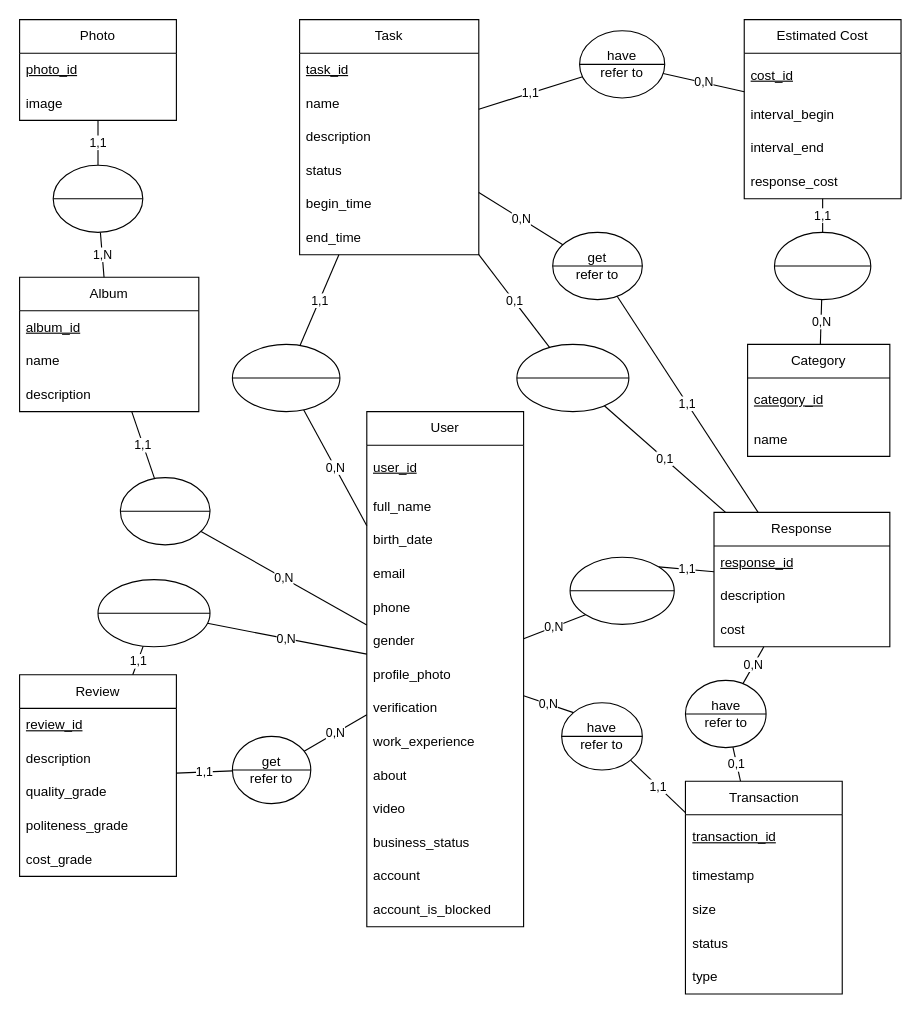
Some shapes in this 921 by 1014 pixel diagram are drawn without their labels. Each missing label, with the centre of its shape:
belong have: point (164, 511)
choose assigned to: point (572, 377)
is authored publish: point (285, 377)
is in contain: point (97, 198)
publish is authored: point (621, 590)
refer to assigned to: point (822, 265)
write is authored: point (153, 612)
